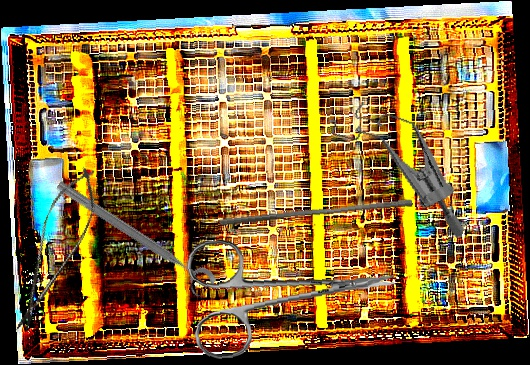Fixation Ring: (47, 176, 219, 302)
Iris Scissors: (185, 225, 402, 361)
Micro Scissor: (2, 158, 110, 342)
Pusher: (218, 192, 414, 234)
Speculum: (305, 90, 495, 242)
